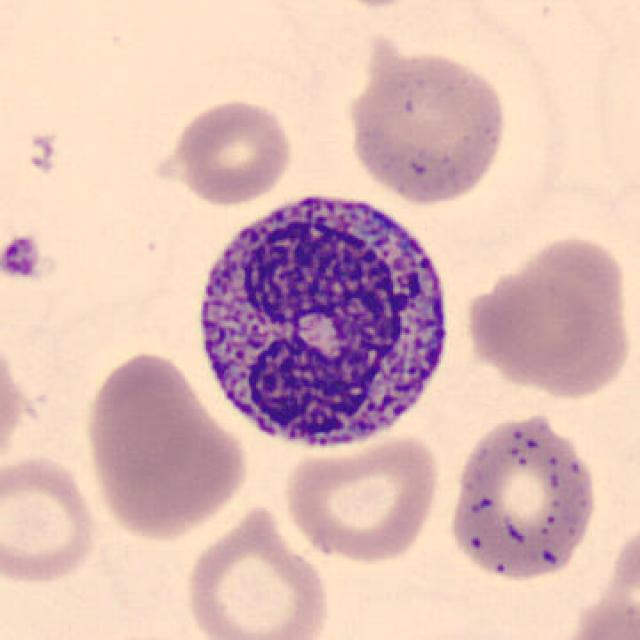Basophil: (183, 176, 462, 464)
Platelets: (0, 231, 46, 284)
RBC: (79, 346, 252, 543), (439, 409, 605, 587), (343, 46, 514, 208), (462, 242, 635, 402), (279, 428, 445, 566), (179, 500, 334, 640), (149, 95, 297, 208), (0, 451, 101, 588), (0, 322, 34, 480), (554, 589, 640, 640), (318, 0, 428, 11)
